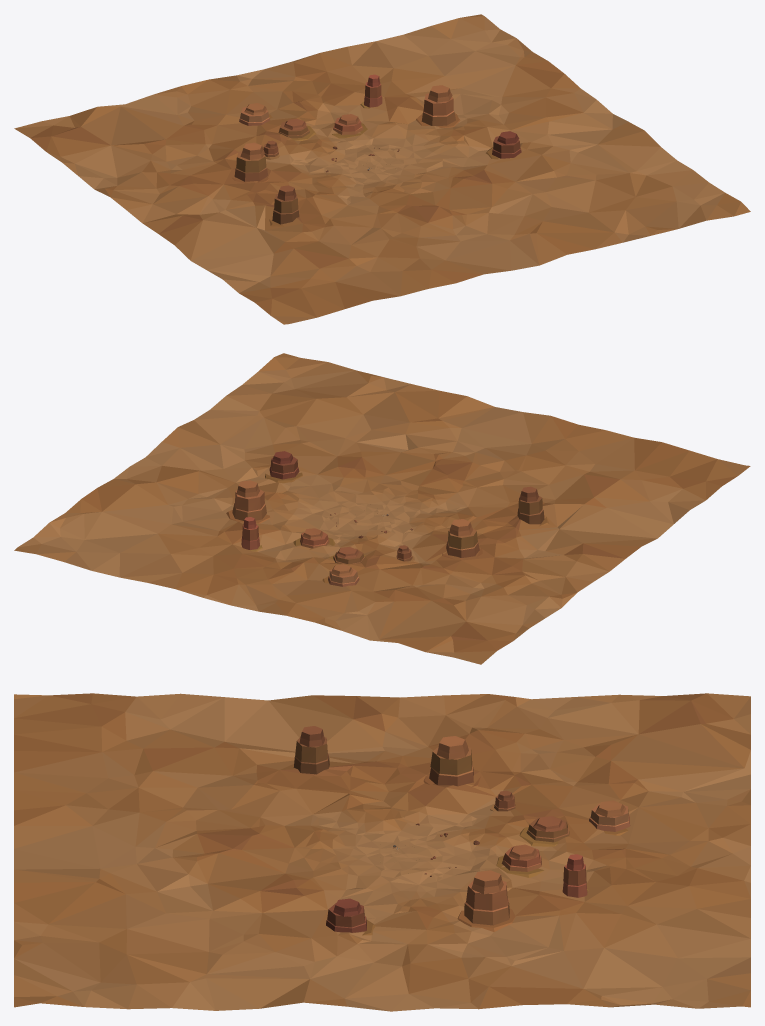
The model's file is wasteland.glb.
The picture shows the model from 3 angles, top to bottom: view 1: azimuth 30°, elevation 25°; view 2: azimuth 150°, elevation 25°; view 3: azimuth 270°, elevation 25°; orthographic projection. The views are drawn at different scales.
Parts seen in each view (by area): view 1: wasteland_ground; view 2: wasteland_ground; view 3: wasteland_ground.
Part boxes in pixels (x1,y1,x2,y2): wasteland_ground: (14,14,750,324); wasteland_ground: (14,353,750,664); wasteland_ground: (14,693,750,1011).
Size of the model in its own units: 420 by 29.56 by 420.
